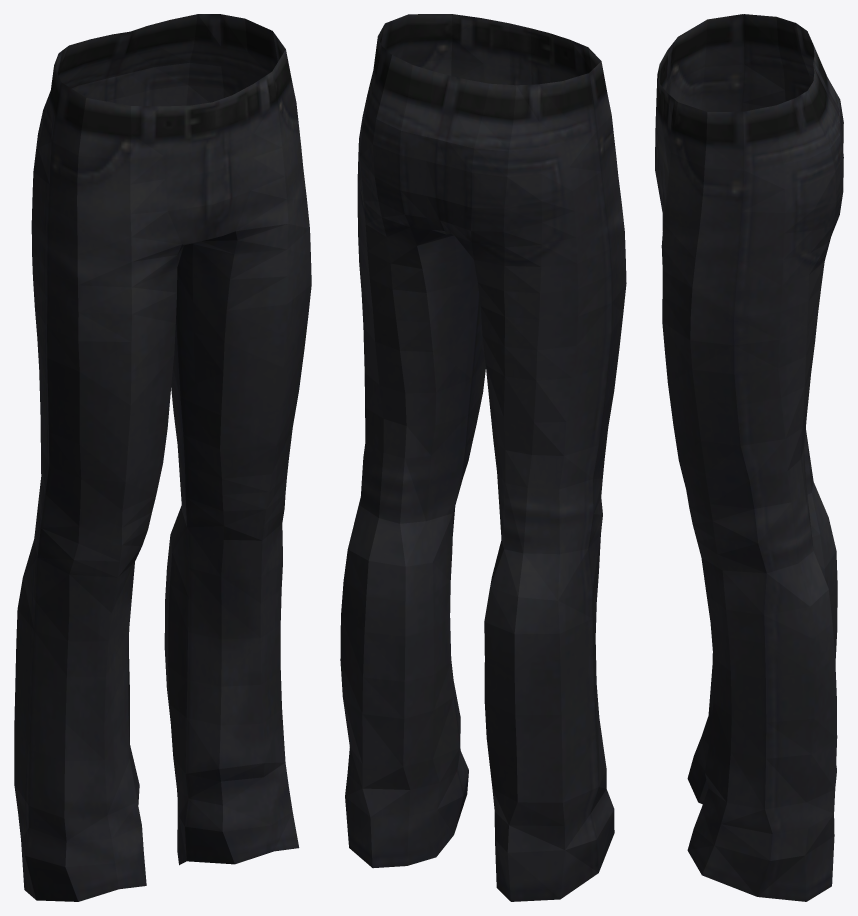
Rendered from Boot_Jeans.obj.
3 renders of one model, left to right at view 1: azimuth 30°, elevation 25°; view 2: azimuth 150°, elevation 25°; view 3: azimuth 270°, elevation 25°, orthographic. The views are drawn at different scales.
Parts seen in each view (by area): view 1: s4studio_mesh_2_geom.000, s4studio_mesh_1_geom.000, s4studio_mesh_3_geom.000, s4studio_mesh_4_geom.000; view 2: s4studio_mesh_2_geom.000, s4studio_mesh_1_geom.000, s4studio_mesh_4_geom.000, s4studio_mesh_3_geom.000; view 3: s4studio_mesh_2_geom.000, s4studio_mesh_1_geom.000, s4studio_mesh_4_geom.000, s4studio_mesh_3_geom.000.
Part boxes in pixels (x1,y1,x2,y2): s4studio_mesh_2_geom.000: (23, 14, 311, 781); s4studio_mesh_1_geom.000: (15, 536, 282, 723); s4studio_mesh_3_geom.000: (14, 651, 285, 818); s4studio_mesh_4_geom.000: (14, 758, 299, 901); s4studio_mesh_2_geom.000: (348, 14, 626, 600); s4studio_mesh_1_geom.000: (340, 549, 598, 714); s4studio_mesh_4_geom.000: (345, 747, 614, 901); s4studio_mesh_3_geom.000: (340, 661, 606, 802); s4studio_mesh_2_geom.000: (655, 14, 843, 801); s4studio_mesh_1_geom.000: (706, 518, 837, 722); s4studio_mesh_4_geom.000: (687, 716, 836, 901); s4studio_mesh_3_geom.000: (704, 629, 837, 809).
Size of the model in its own units: 0.3466 by 1.08 by 0.2325.
